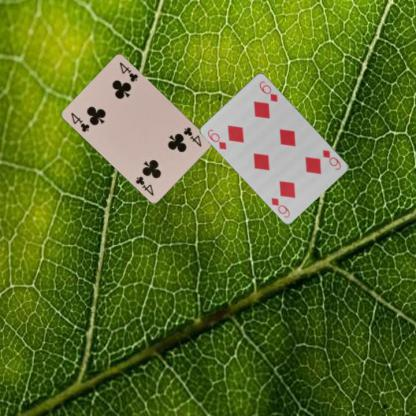4c: (68, 110, 91, 133), (181, 124, 203, 148)
6d: (205, 126, 228, 151), (320, 146, 342, 172)
